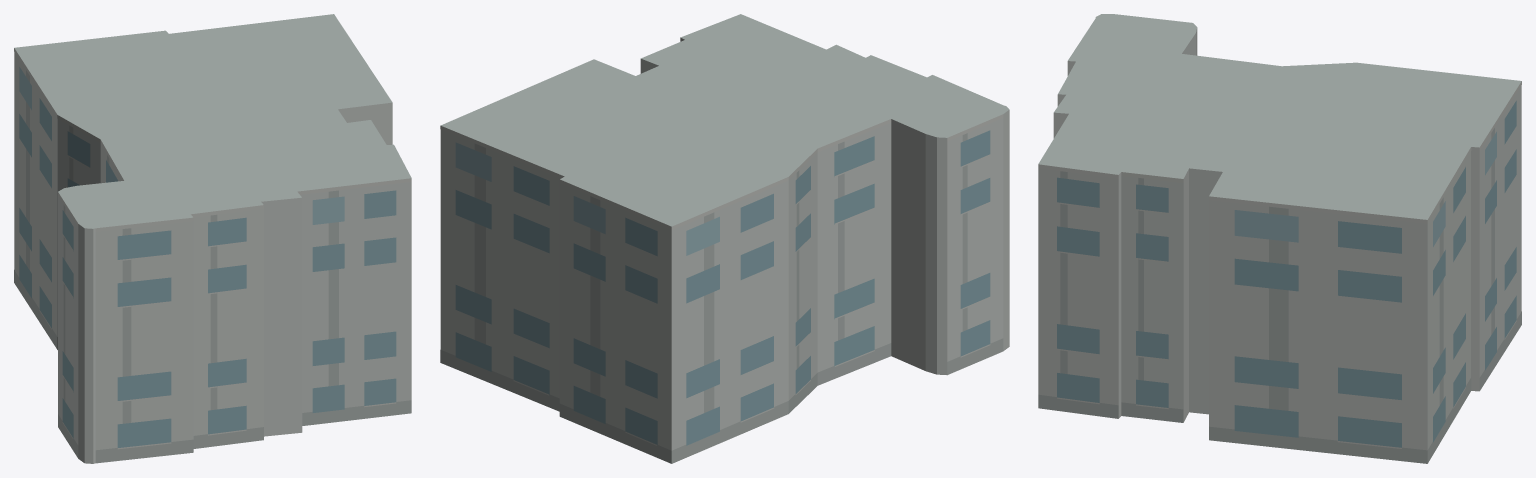
Rendered from survey-upis-32917395.glb.
3 renders of one model, left to right at view 1: azimuth 30°, elevation 25°; view 2: azimuth 150°, elevation 25°; view 3: azimuth 270°, elevation 25°, orthographic. The views are drawn at different scales.
Visible parts, largest first — view 1: survey-upis-32917395.tmp; view 2: survey-upis-32917395.tmp; view 3: survey-upis-32917395.tmp.
Boxes of the visible parts, bbox=[...] form: survey-upis-32917395.tmp: bbox=[14, 14, 411, 463]; survey-upis-32917395.tmp: bbox=[440, 14, 1009, 463]; survey-upis-32917395.tmp: bbox=[1038, 14, 1521, 463].
Bounding box in the file's own units: 27.62 × 15.25 × 27.41.
